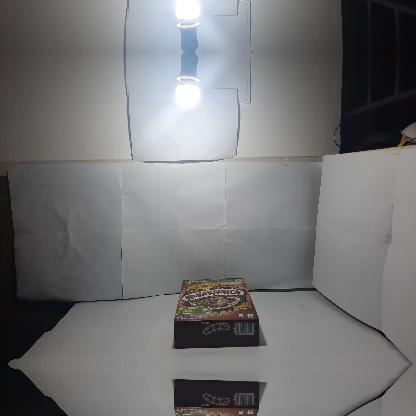Koko-Krunch: (174, 278, 258, 348), (173, 379, 259, 415)
